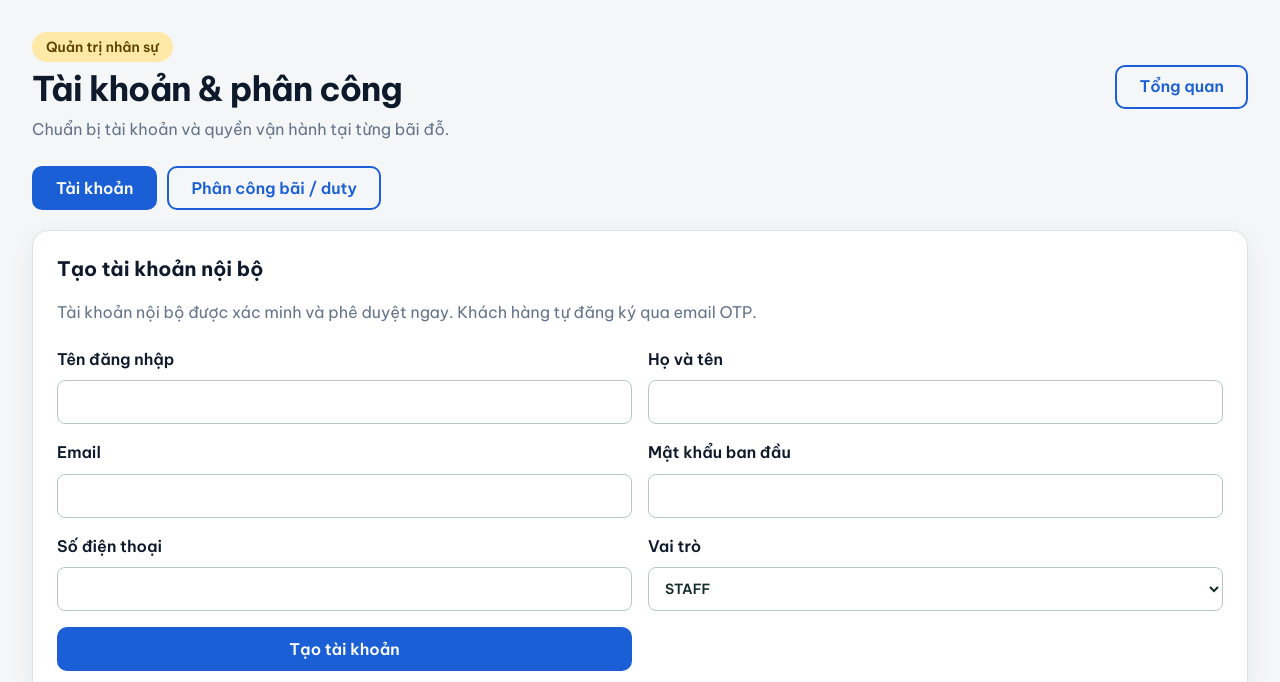
Test case: preserves a failed account draft and shows the server permission error
Type "draft" into the field labelled "Tên đăng nhập" at (344, 402), box left=57, top=380, right=632, bottom=424
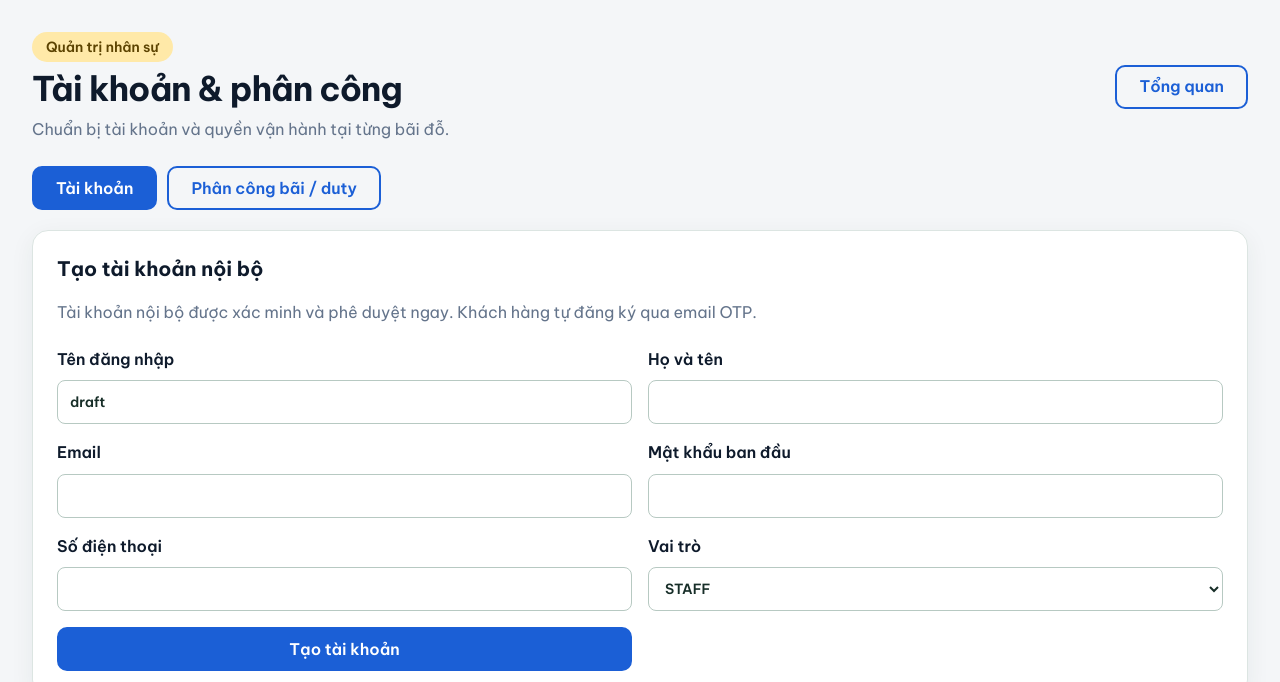
Submit the form named "Tạo tài khoản", box left=57, top=347, right=1223, bottom=672
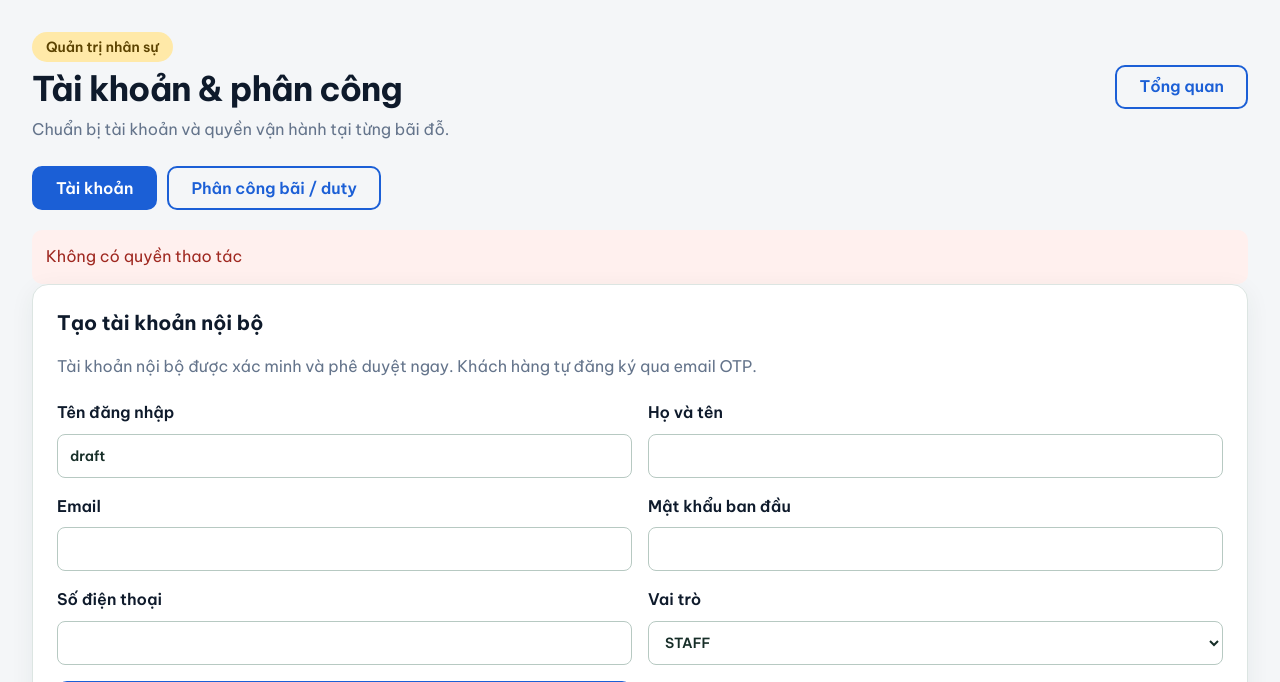
expect the message "Không có quyền thao tác" is shown: met, box left=32, top=230, right=1248, bottom=284
